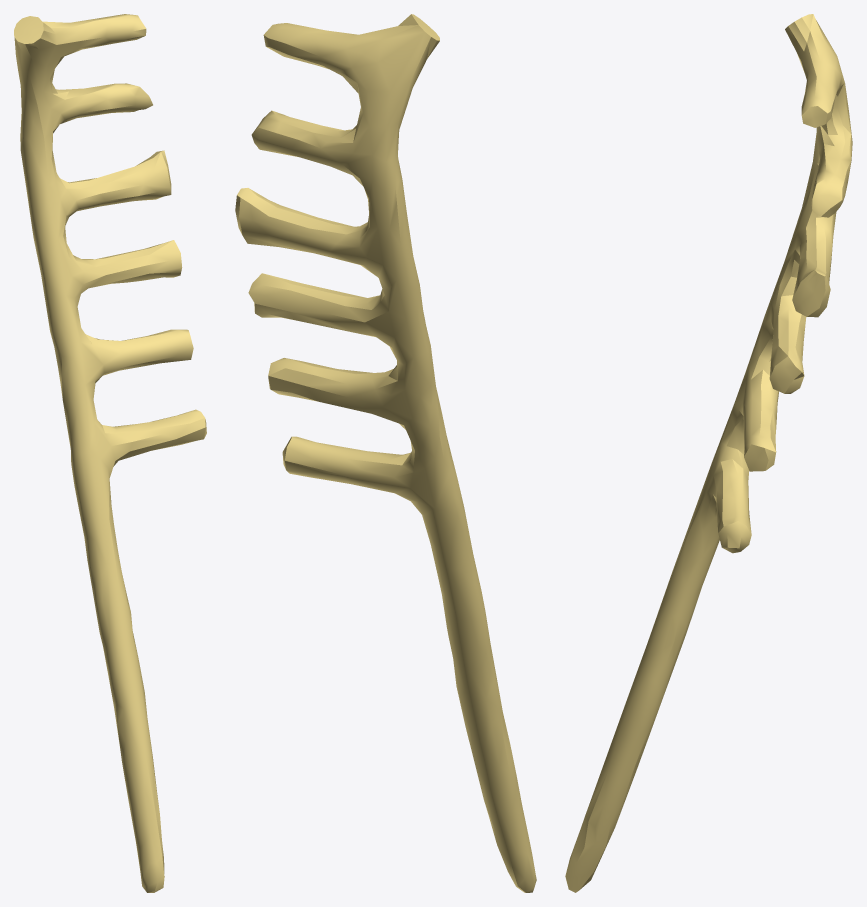
File: fma327359-r_mm2638m.glb
3 views of the same model, side by side, from view 1: azimuth 30°, elevation 25°; view 2: azimuth 150°, elevation 25°; view 3: azimuth 270°, elevation 25° (orthographic). The views are drawn at different scales.
Parts seen in each view (by area): view 1: FMA327359-R_MM2638M; view 2: FMA327359-R_MM2638M; view 3: FMA327359-R_MM2638M.
Part boxes in pixels (x1=…): FMA327359-R_MM2638M: x1=14, y1=14, x2=206, y2=892; FMA327359-R_MM2638M: x1=235, y1=14, x2=536, y2=892; FMA327359-R_MM2638M: x1=565, y1=14, x2=852, y2=892.
Size of the model in its own units: 0.007 by 0.0342 by 0.0102.
